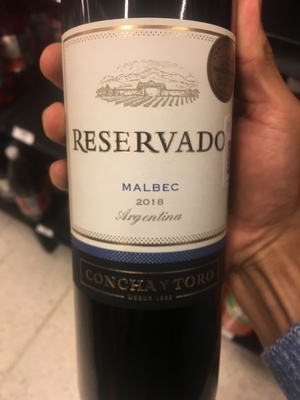reservado malbec: (53, 1, 238, 400)
